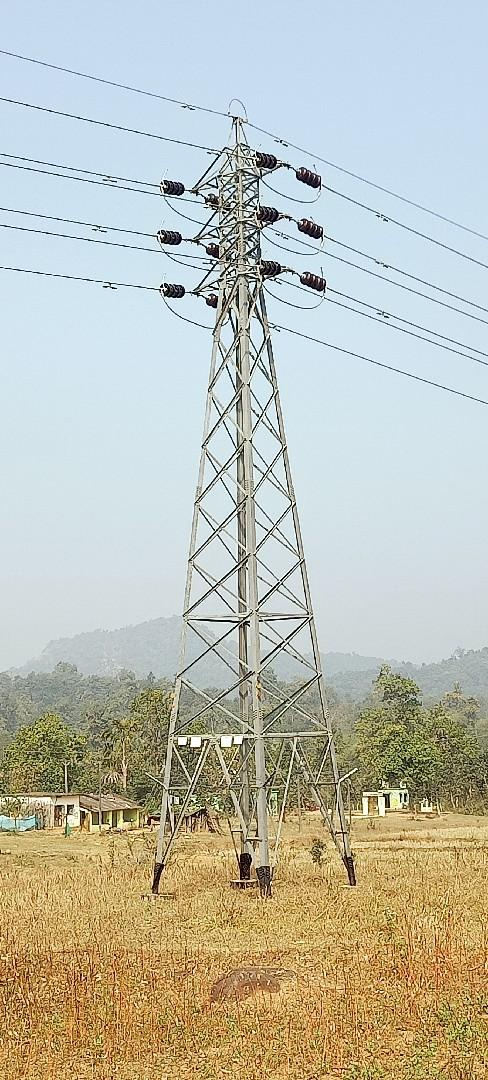GSM Antenna: (139, 111, 368, 875)
